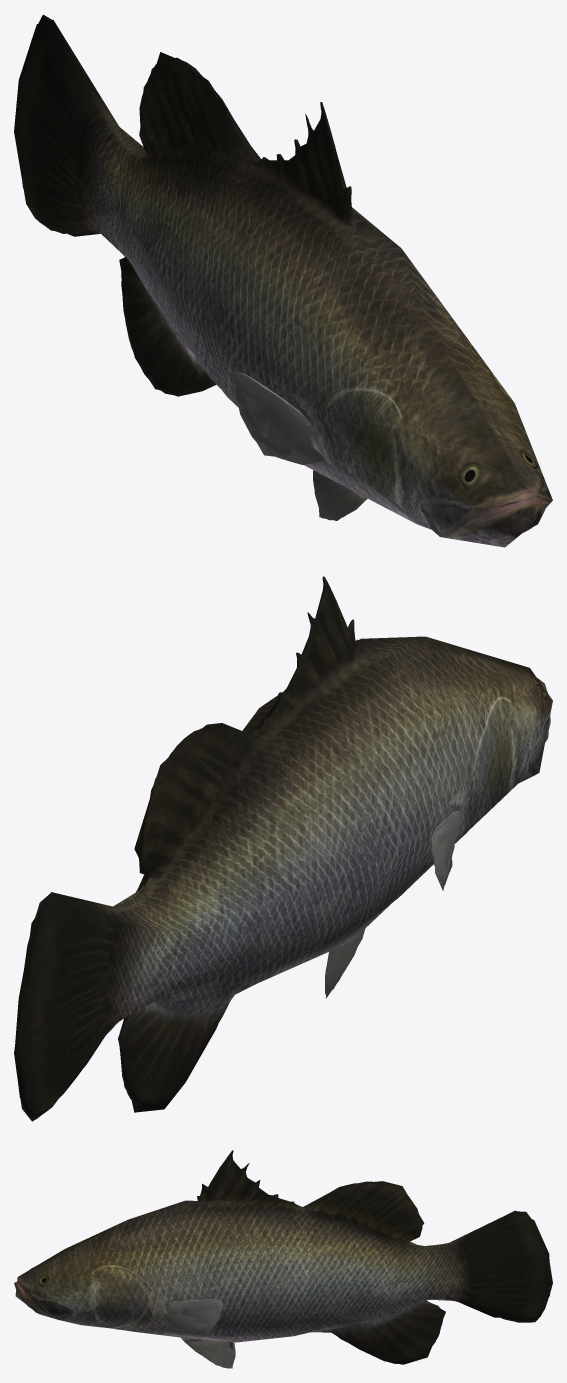
File: BarramundiFish.gltf
3 views of the same model, one above another, from view 1: azimuth 30°, elevation 25°; view 2: azimuth 150°, elevation 25°; view 3: azimuth 270°, elevation 25° (orthographic). The views are drawn at different scales.
Visible parts, largest first — view 1: meshId3_name, meshId2_name, meshId1_name, meshId0_name; view 2: meshId3_name, meshId2_name, meshId1_name, meshId0_name; view 3: meshId3_name, meshId2_name, meshId1_name, meshId0_name.
Boxes of the visible parts, x1,y1,x2,y2 form: meshId3_name: (14,20,552,547); meshId2_name: (16,15,545,539); meshId1_name: (22,17,542,541); meshId0_name: (33,14,542,531); meshId3_name: (14,577,552,1121); meshId2_name: (14,582,549,1121); meshId1_name: (18,576,550,1119); meshId0_name: (15,576,550,1103); meshId3_name: (15,1157,550,1368); meshId2_name: (14,1153,552,1368); meshId1_name: (15,1156,548,1365); meshId0_name: (15,1150,552,1368).
Bounding box in the file's own units: 14.34 × 28.83 × 64.37.
Materials: 4 (4 with a texture image).
